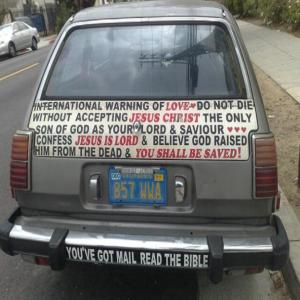Vehicle-registration-plate: (108, 167, 170, 212)
